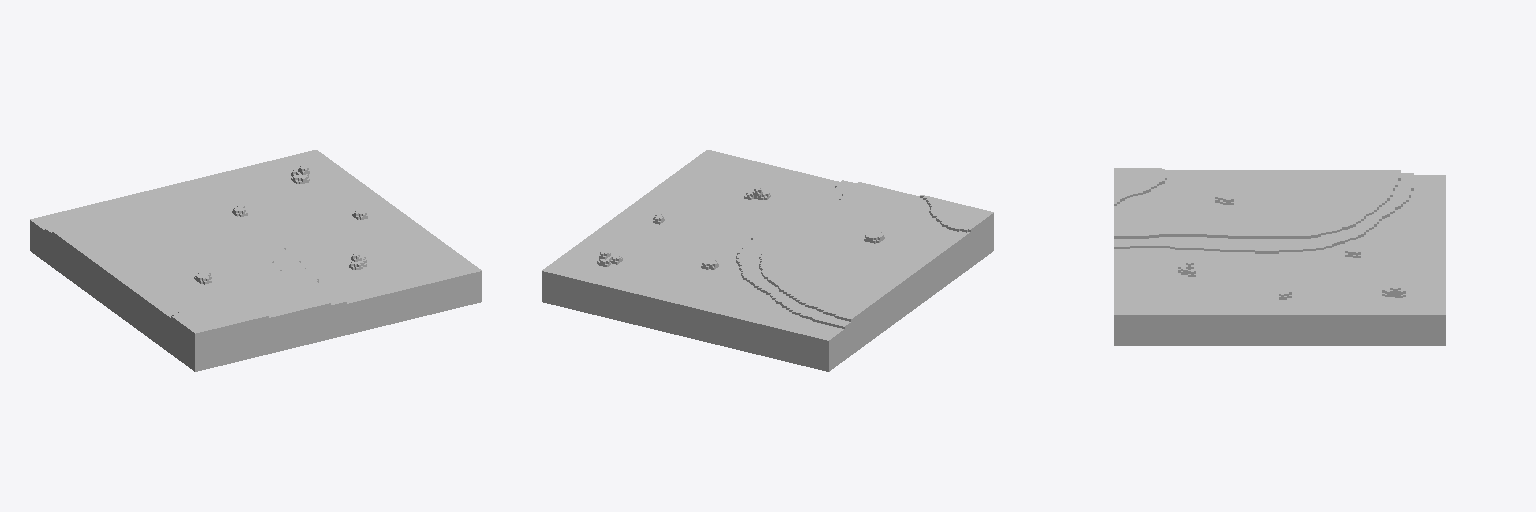
File: Map (5).obj
3 views of the same model, side by side, from view 1: azimuth 30°, elevation 25°; view 2: azimuth 150°, elevation 25°; view 3: azimuth 270°, elevation 25° (orthographic).
Parts seen in each view (by area): view 1: ALL MAP!!!!!!!!!!!-2; view 2: ALL MAP!!!!!!!!!!!-2; view 3: ALL MAP!!!!!!!!!!!-2.
Boxes of the visible parts, <box> form: ALL MAP!!!!!!!!!!!-2: <box>30,150,481,371</box>; ALL MAP!!!!!!!!!!!-2: <box>542,150,993,371</box>; ALL MAP!!!!!!!!!!!-2: <box>1114,168,1445,345</box>.
Bounding box in the file's own units: 125 × 17 × 125.